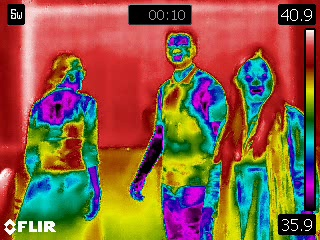human: (129, 27, 229, 240), (17, 51, 104, 224), (216, 46, 304, 210)
